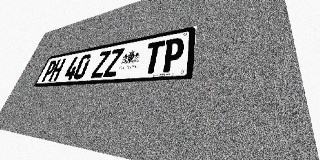0: (72, 54, 92, 80)
4: (63, 55, 82, 80)
H: (48, 58, 66, 81)
P: (160, 36, 185, 73), (40, 60, 58, 82)
T: (142, 40, 166, 74)
Z: (103, 48, 125, 77), (90, 50, 111, 78)
